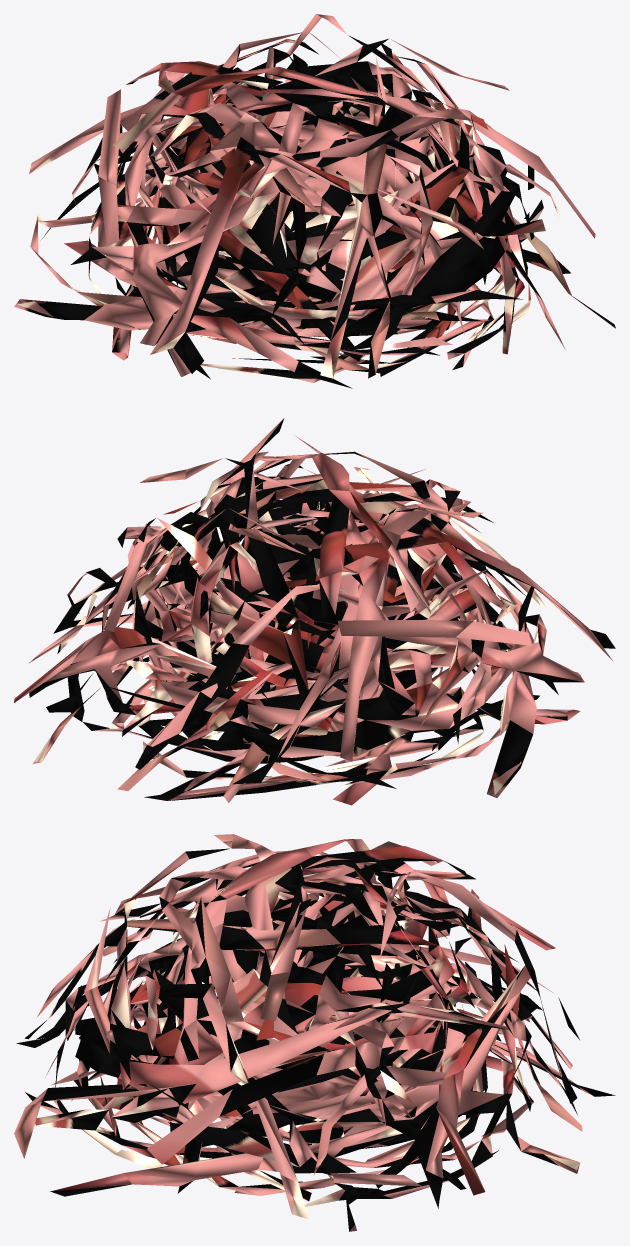
File: 260806_채썬 양배추_01.fbx
3 renders of one model, top to bottom at view 1: azimuth 30°, elevation 25°; view 2: azimuth 150°, elevation 25°; view 3: azimuth 270°, elevation 25°, orthographic. The views are drawn at different scales.
Visible parts, largest first — view 1: Mesh1.0; view 2: Mesh1.0; view 3: Mesh1.0.
Boxes of the visible parts, x1=… form: Mesh1.0: x1=14, y1=14, x2=615, y2=388; Mesh1.0: x1=14, y1=418, x2=615, y2=805; Mesh1.0: x1=14, y1=834, x2=615, y2=1231.
Bounding box in the file's own units: 185 × 94.53 × 188.
